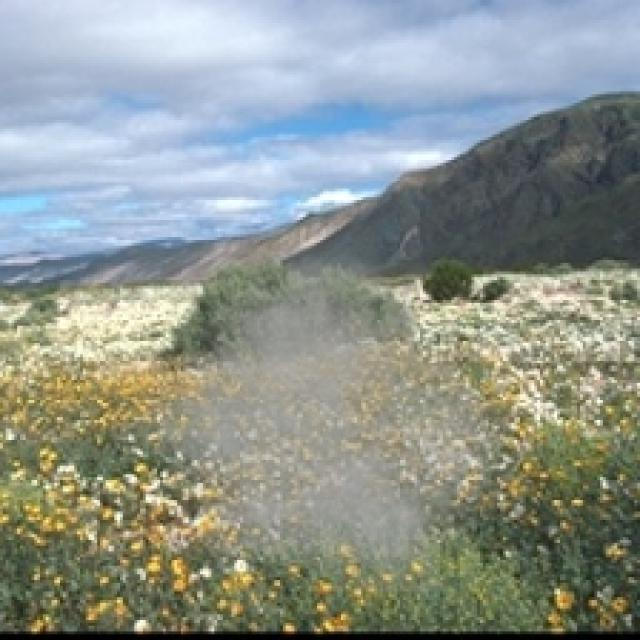smoke: (123, 212, 526, 592)
